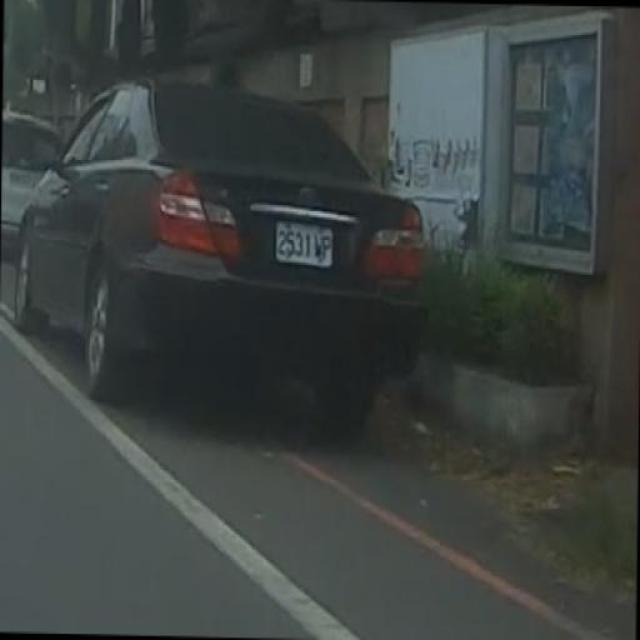Legalparking: (1, 40, 469, 427)
